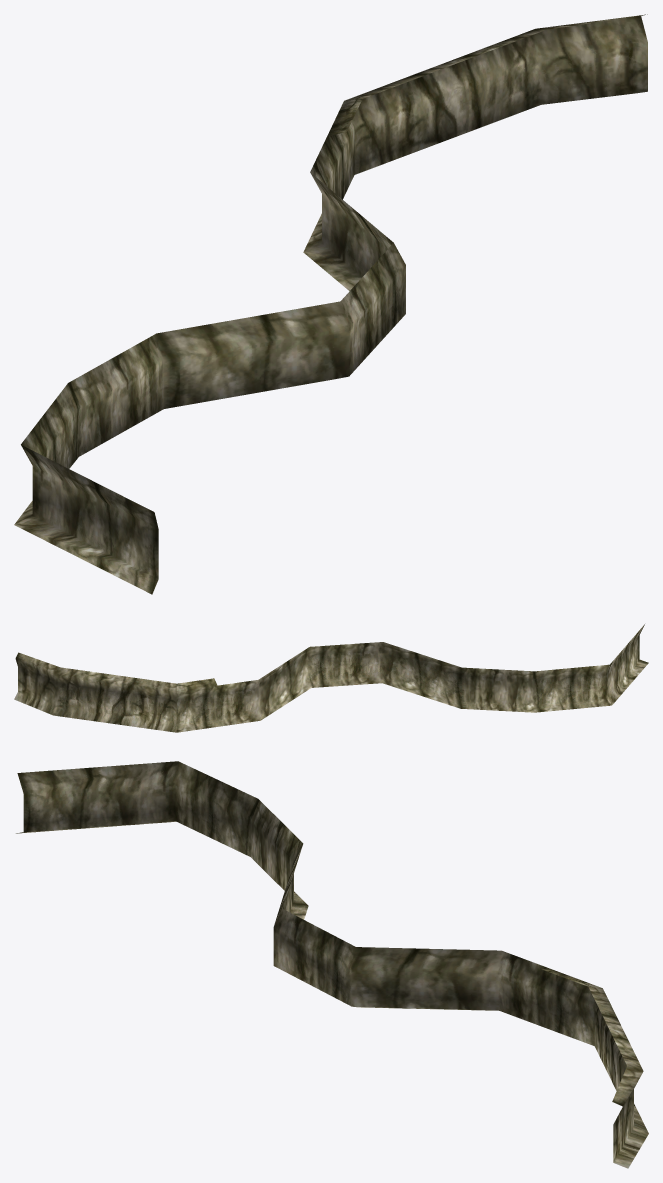
The model's file is CB_NEWPLAYSURFACE_CB_PLAYSURFACE147.fbx.
3 views of the same model, one above another, from view 1: azimuth 30°, elevation 25°; view 2: azimuth 150°, elevation 25°; view 3: azimuth 270°, elevation 25° (orthographic). The views are drawn at different scales.
Parts seen in each view (by area): view 1: CB_NEWPLAYSURFACE_CB_PLAYSURFACE147; view 2: CB_NEWPLAYSURFACE_CB_PLAYSURFACE147; view 3: CB_NEWPLAYSURFACE_CB_PLAYSURFACE147.
Part boxes in pixels (bbox=[...]): CB_NEWPLAYSURFACE_CB_PLAYSURFACE147: bbox=[14, 14, 647, 594]; CB_NEWPLAYSURFACE_CB_PLAYSURFACE147: bbox=[14, 624, 648, 732]; CB_NEWPLAYSURFACE_CB_PLAYSURFACE147: bbox=[16, 761, 648, 1168].
Size of the model in its own units: 332454 by 30067 by 256475.
Materials: 1 (1 with a texture image).
